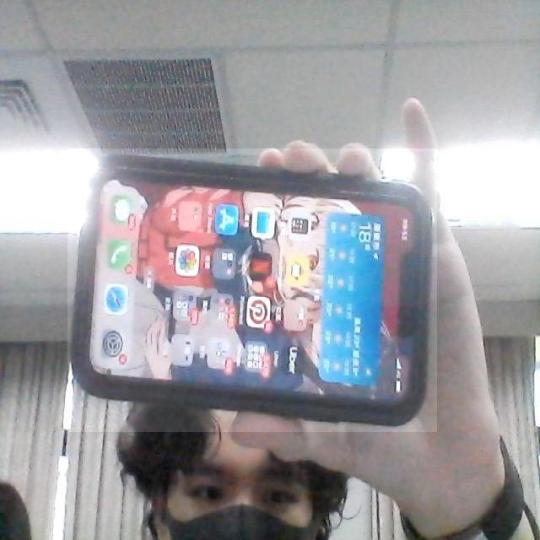phone: (67, 149, 433, 428)
